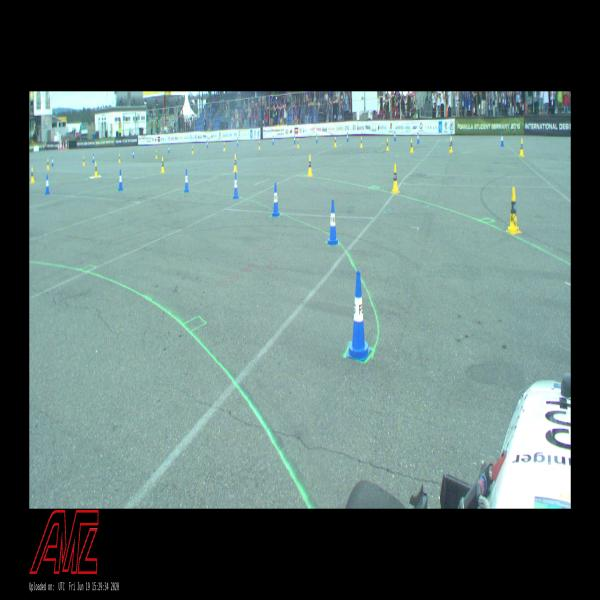blue_cone: (346, 271, 370, 360), (328, 200, 338, 245), (272, 182, 280, 216), (233, 172, 239, 198), (118, 169, 124, 190), (184, 169, 189, 192), (45, 175, 50, 194), (501, 132, 504, 146), (346, 132, 349, 142), (450, 132, 452, 145), (417, 132, 419, 144), (394, 131, 396, 141), (316, 134, 318, 143), (168, 146, 170, 154), (272, 136, 274, 144), (92, 154, 94, 162), (52, 157, 53, 166), (133, 150, 134, 158), (237, 138, 238, 146), (207, 140, 208, 148), (294, 136, 295, 144)
yellow_cone: (506, 187, 521, 234), (391, 163, 400, 193), (519, 138, 524, 157), (308, 154, 312, 176), (30, 167, 35, 183), (234, 154, 238, 172), (161, 156, 165, 173), (410, 139, 414, 153), (95, 162, 98, 178), (449, 138, 452, 153), (386, 138, 389, 151), (360, 136, 363, 148), (334, 137, 337, 147), (47, 158, 49, 169), (83, 156, 85, 166), (297, 138, 299, 148), (192, 146, 194, 155), (258, 141, 260, 149), (119, 154, 121, 162), (224, 142, 225, 151), (156, 150, 157, 158)
